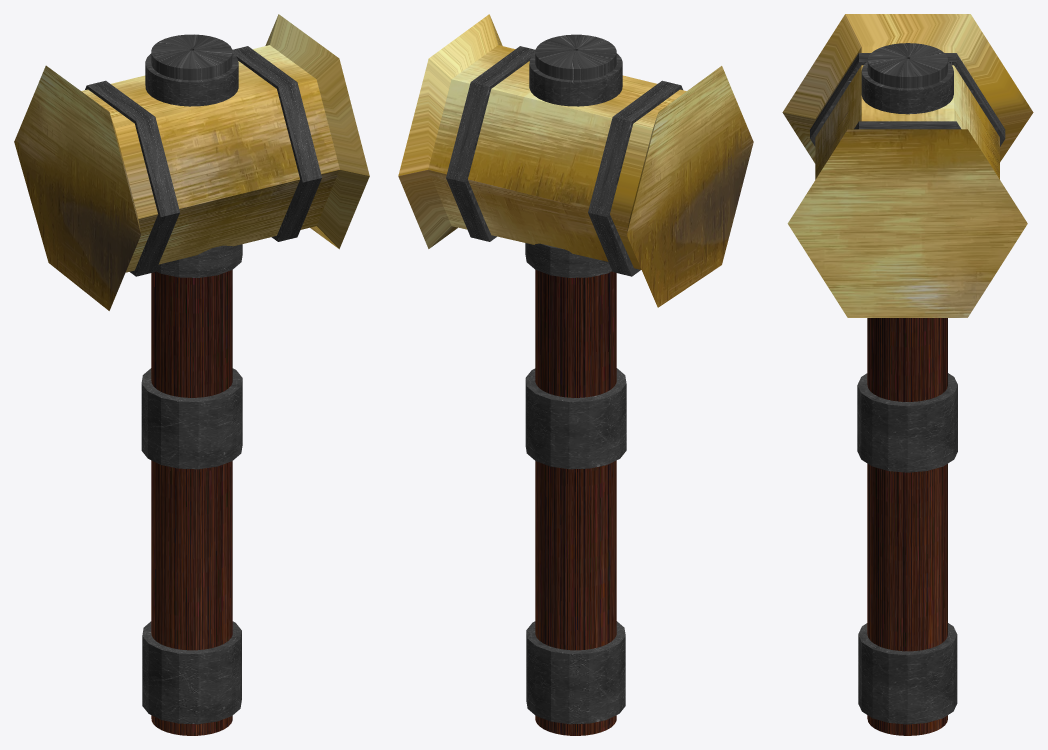
File: Gold Warhammer.fbx
The picture shows the model from 3 angles, left to right: view 1: azimuth 30°, elevation 25°; view 2: azimuth 150°, elevation 25°; view 3: azimuth 270°, elevation 25°; orthographic projection.
Visible parts, largest first — view 1: Cylinder.001, Cylinder, Cylinder.002, Cylinder.004, Cylinder.003; view 2: Cylinder.001, Cylinder, Cylinder.002, Cylinder.004, Cylinder.003; view 3: Cylinder.001, Cylinder, Cylinder.002, Cylinder.004, Cylinder.003.
Part boxes in pixels (x1=…): Cylinder.001: x1=14, y1=14, x2=369, y2=310; Cylinder: x1=151, y1=270, x2=232, y2=735; Cylinder.002: x1=141, y1=34, x2=242, y2=724; Cylinder.004: x1=85, y1=80, x2=179, y2=276; Cylinder.003: x1=232, y1=46, x2=321, y2=241; Cylinder.001: x1=398, y1=14, x2=753, y2=307; Cylinder: x1=535, y1=270, x2=616, y2=735; Cylinder.002: x1=525, y1=34, x2=626, y2=724; Cylinder.004: x1=588, y1=80, x2=682, y2=276; Cylinder.003: x1=446, y1=46, x2=535, y2=241; Cylinder.001: x1=782, y1=14, x2=1033, y2=317; Cylinder: x1=867, y1=318, x2=947, y2=735; Cylinder.002: x1=857, y1=43, x2=957, y2=724; Cylinder.004: x1=810, y1=53, x2=1005, y2=146; Cylinder.003: x1=854, y1=121, x2=961, y2=129.
Size of the model in its own units: 216 by 597 by 206.
